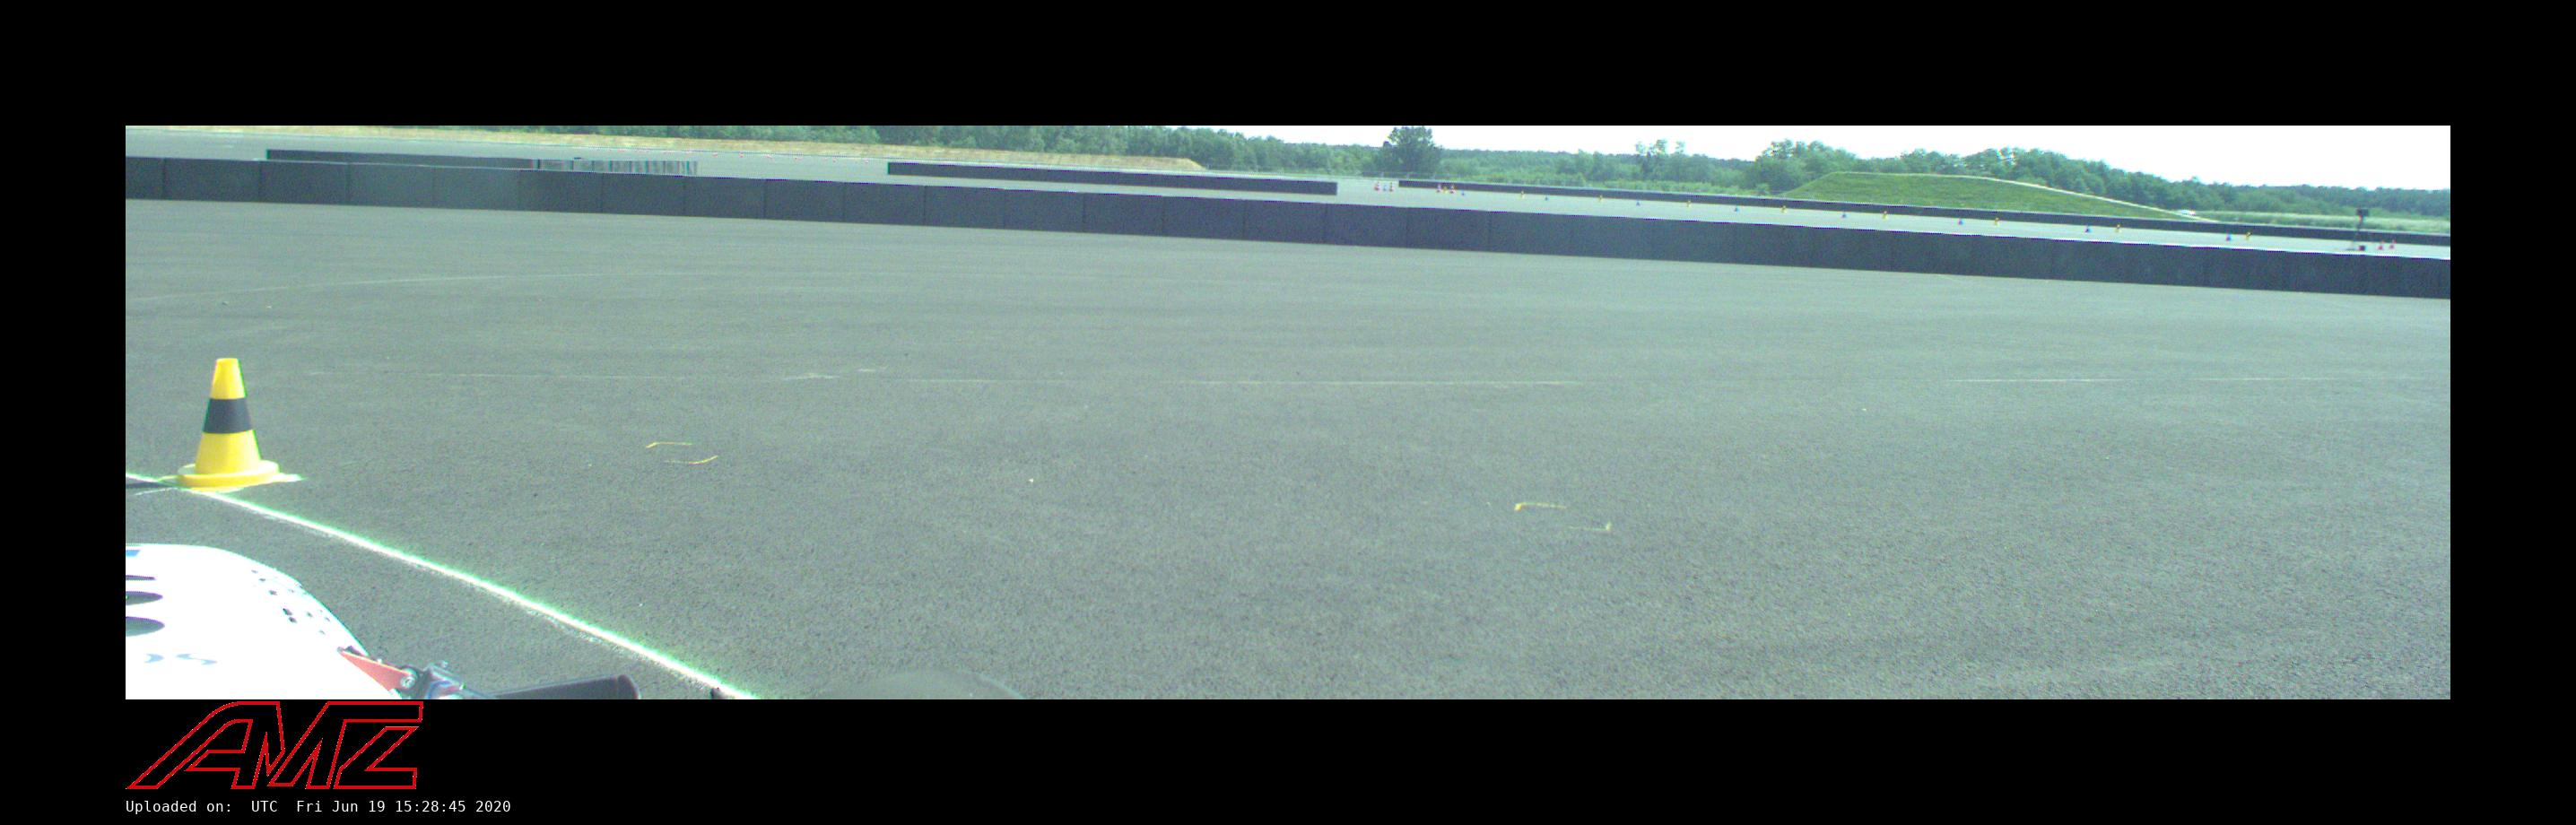blue_cone: (1842, 209, 1848, 219), (2085, 224, 2091, 233), (1382, 184, 1388, 192), (1635, 199, 1641, 207), (1733, 204, 1740, 212), (1957, 217, 1963, 225), (1460, 189, 1467, 196), (1544, 192, 1549, 200), (2226, 232, 2231, 240)
large_orange_cone: (1388, 181, 1395, 192), (1373, 181, 1380, 191), (1436, 182, 1441, 192), (1449, 184, 1454, 194)
orange_cone: (2377, 240, 2384, 250), (2389, 238, 2395, 248)
yellow_cone: (161, 358, 297, 491), (2242, 230, 2251, 242), (1993, 217, 2001, 227), (2114, 224, 2123, 233), (1881, 210, 1889, 219), (1518, 191, 1526, 199), (1781, 204, 1787, 214), (1686, 199, 1692, 207), (1597, 194, 1603, 202), (1442, 186, 1447, 192)
